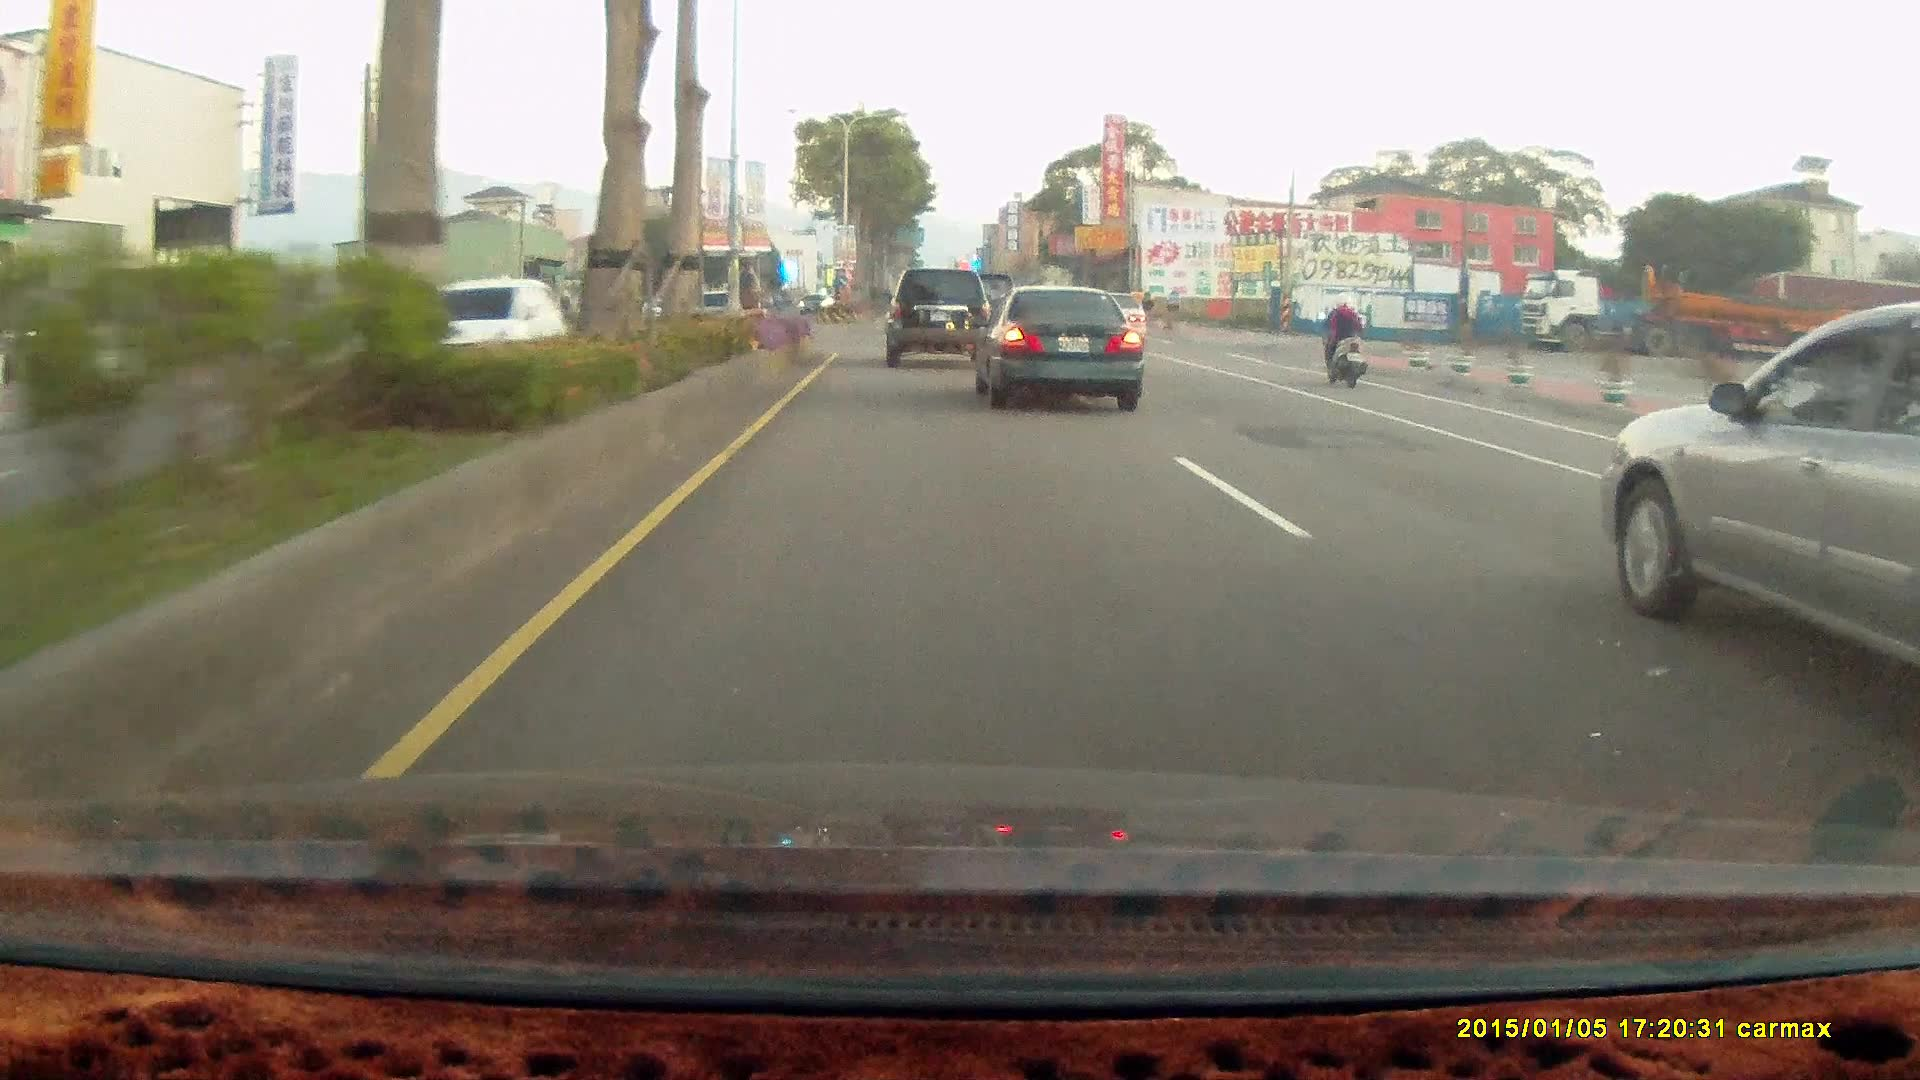rider: (1311, 288, 1377, 394), (1313, 292, 1369, 388)
vehicle: (1613, 298, 1920, 720), (1515, 264, 1886, 362), (967, 286, 1142, 413), (975, 290, 1145, 412), (406, 272, 572, 378), (886, 268, 996, 370), (884, 266, 992, 367)
